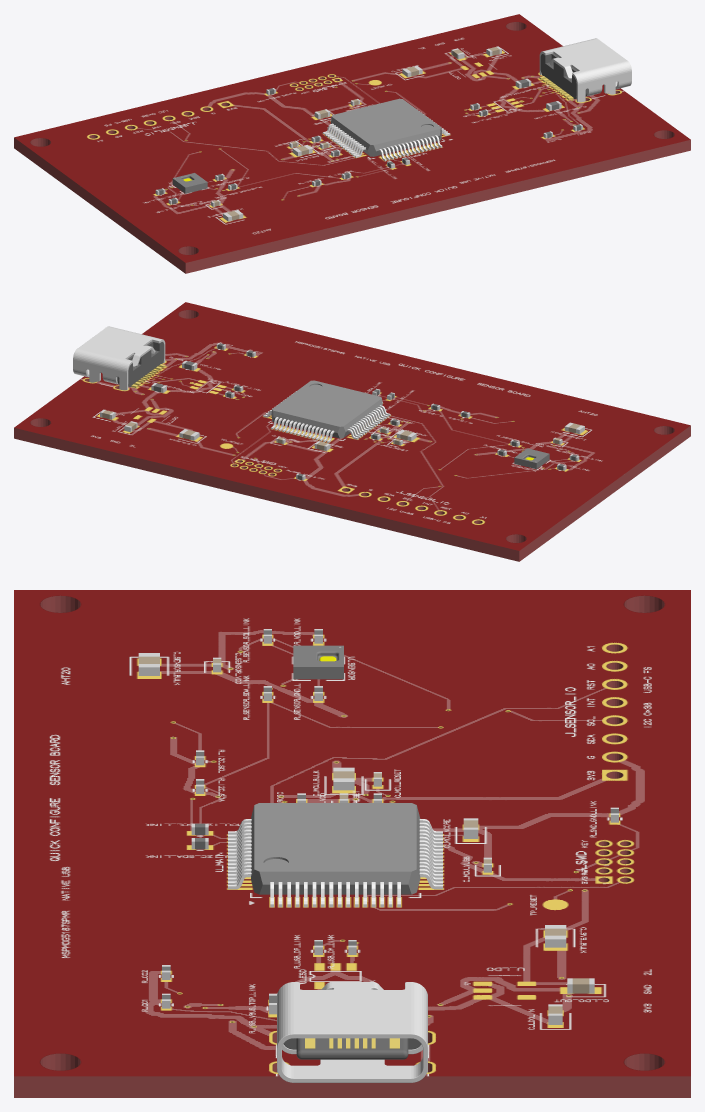
The picture shows the model from 3 angles, top to bottom: view 1: azimuth 30°, elevation 25°; view 2: azimuth 150°, elevation 25°; view 3: azimuth 270°, elevation 25°; orthographic projection. The views are drawn at different scales.
Visible parts, largest first — view 1: Box0, U_MAIN, J_USB, U_SENSOR; view 2: Box0, U_MAIN, J_USB, U_SENSOR; view 3: Box0, U_MAIN, J_USB, U_SENSOR.
Boxes of the visible parts, x1,y1,x2,y2 form: Box0: (14, 14, 690, 273); U_MAIN: (322, 98, 450, 161); J_USB: (539, 38, 631, 102); U_SENSOR: (172, 173, 207, 193); Box0: (14, 302, 690, 561); U_MAIN: (263, 380, 390, 442); J_USB: (73, 326, 165, 390); U_SENSOR: (514, 448, 549, 469); Box0: (14, 590, 690, 1097); U_MAIN: (228, 803, 442, 907); J_USB: (277, 982, 427, 1082); U_SENSOR: (293, 645, 343, 679).
Size of the model in its own units: 69.04 by 4.65 by 40.
Materials: 16 (2 with a texture image).
